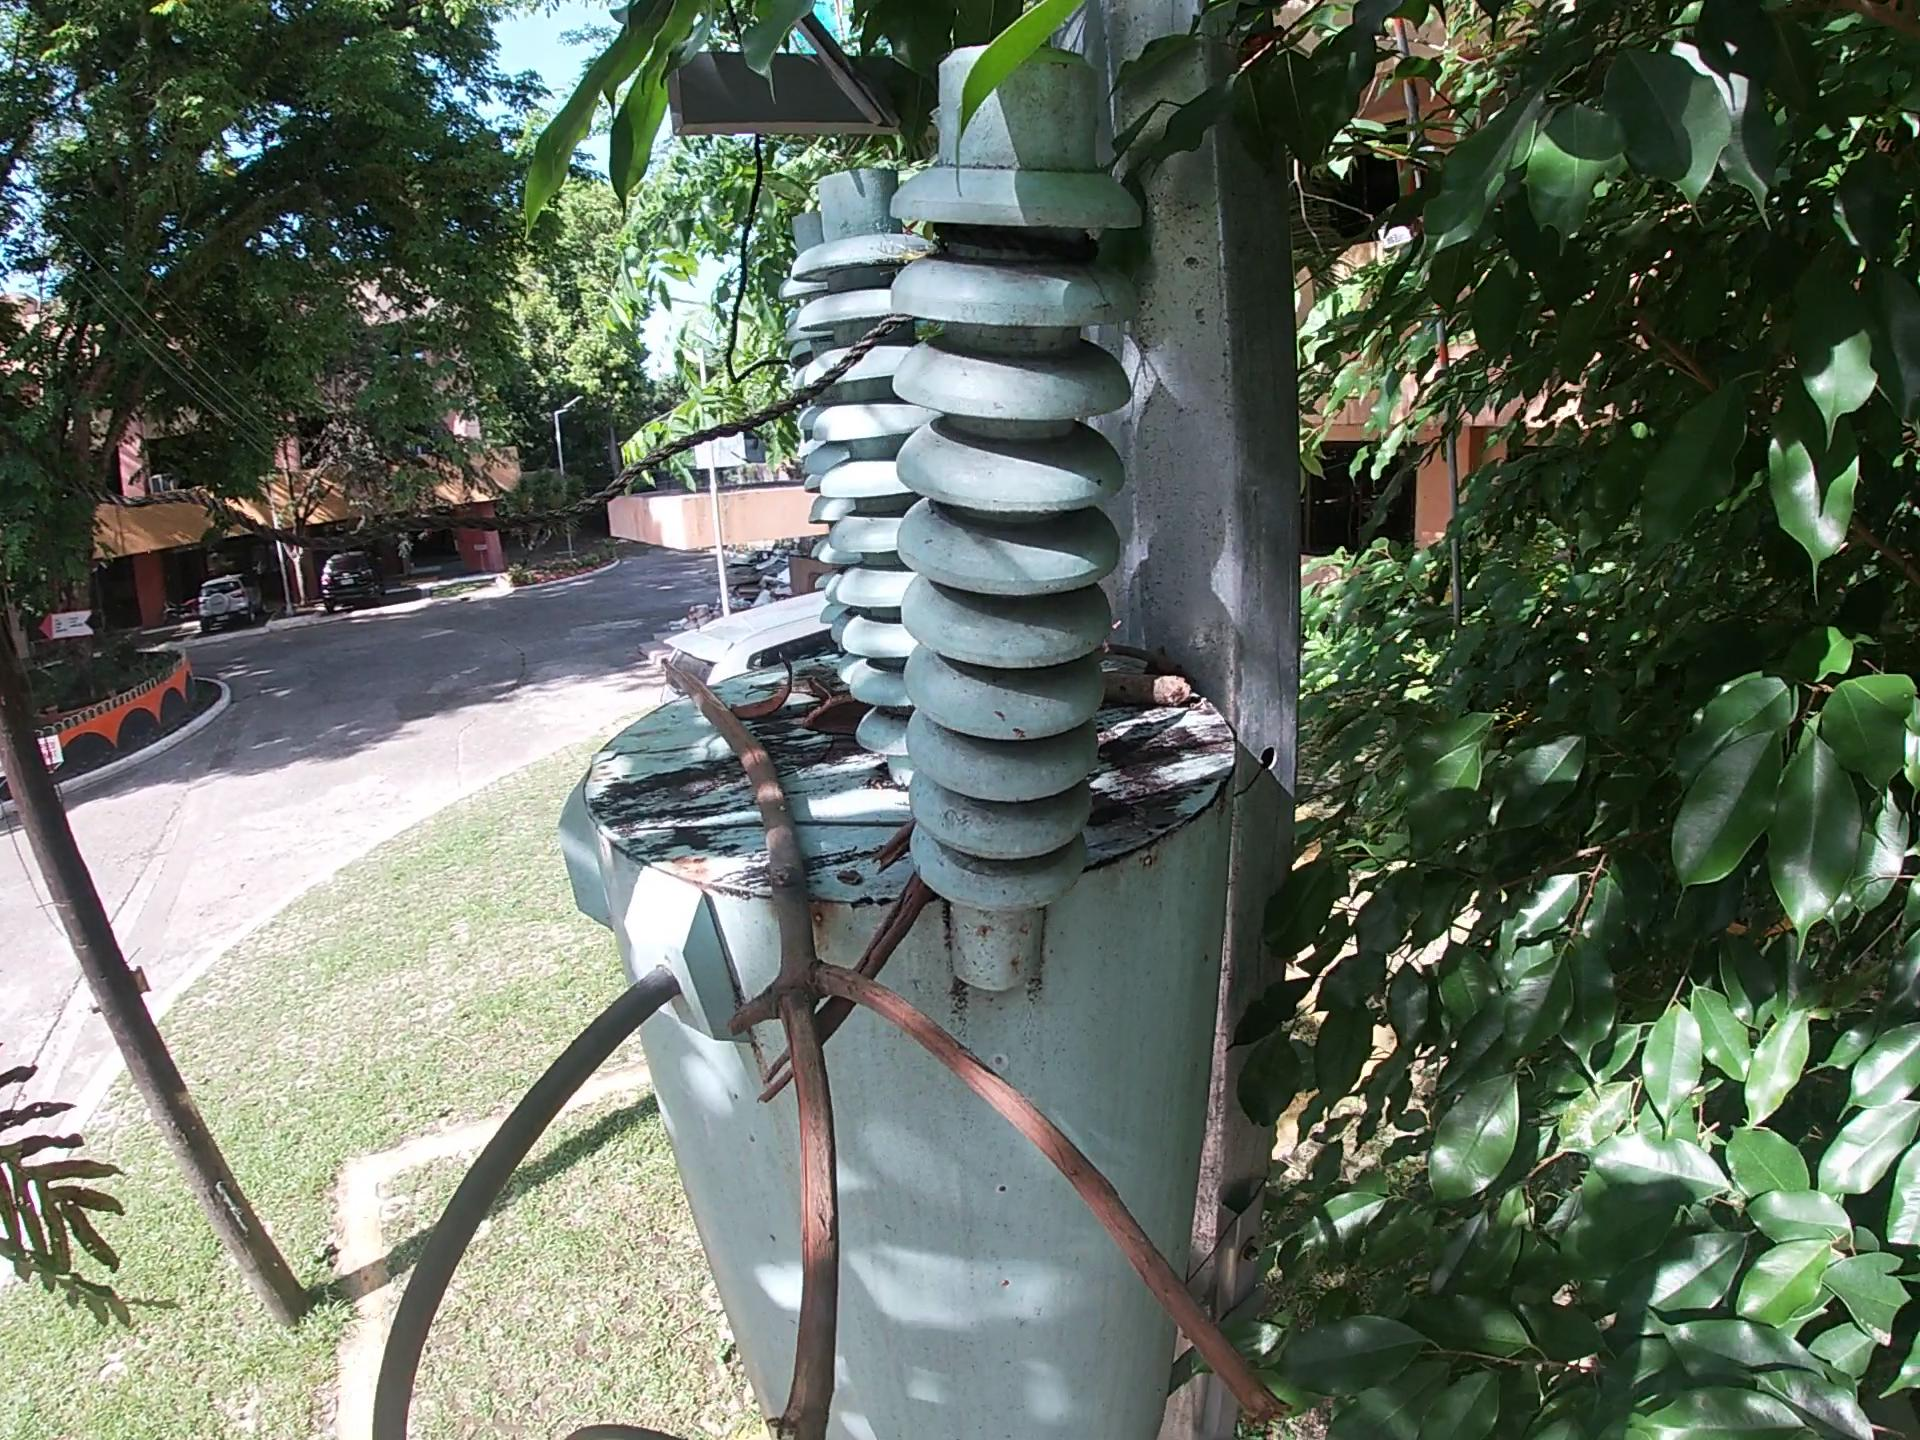mahogany fruit: (724, 655, 804, 725), (800, 693, 872, 746)
tree branch: (639, 644, 1311, 1435), (751, 867, 946, 1119), (1095, 632, 1197, 681), (1096, 666, 1206, 708)
